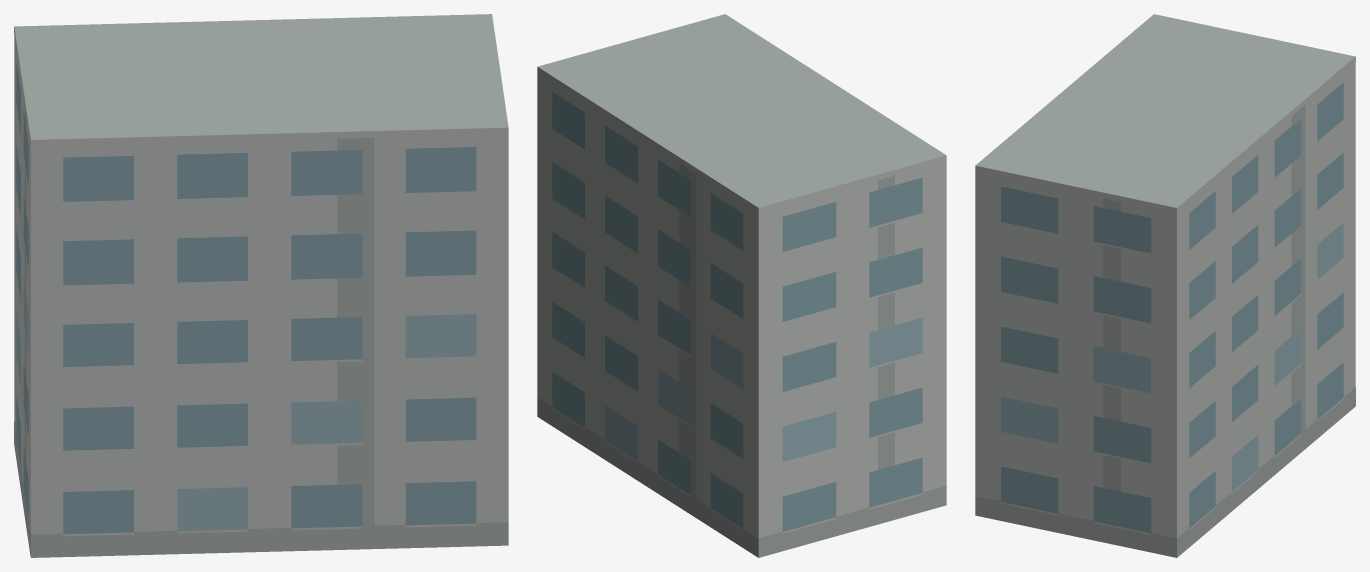
File: residential-dda9837c-f8f8-434e-8451-885819d3e3e7.glb
3 renders of one model, left to right at view 1: azimuth 30°, elevation 25°; view 2: azimuth 150°, elevation 25°; view 3: azimuth 270°, elevation 25°, orthographic. The views are drawn at different scales.
Visible parts, largest first — view 1: residential-dda9837c-f8f8-434e-8451-885819d3e3e7.tmp; view 2: residential-dda9837c-f8f8-434e-8451-885819d3e3e7.tmp; view 3: residential-dda9837c-f8f8-434e-8451-885819d3e3e7.tmp.
Boxes of the visible parts, x1=… form: residential-dda9837c-f8f8-434e-8451-885819d3e3e7.tmp: x1=14, y1=14, x2=508, y2=557; residential-dda9837c-f8f8-434e-8451-885819d3e3e7.tmp: x1=537, y1=14, x2=946, y2=557; residential-dda9837c-f8f8-434e-8451-885819d3e3e7.tmp: x1=975, y1=14, x2=1355, y2=557.
Size of the model in its own units: 17.85 by 15 by 14.79.
